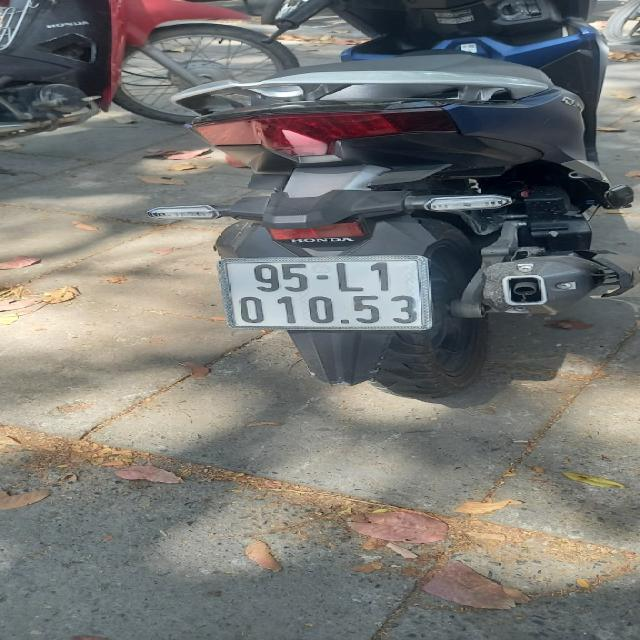0: (306, 296, 337, 324), (237, 296, 268, 323)
1: (273, 296, 299, 324), (369, 262, 393, 290)
3: (388, 296, 419, 326)
5: (351, 296, 381, 323)
9: (252, 264, 282, 292)
B: (281, 262, 310, 293)
L: (333, 262, 366, 292)
